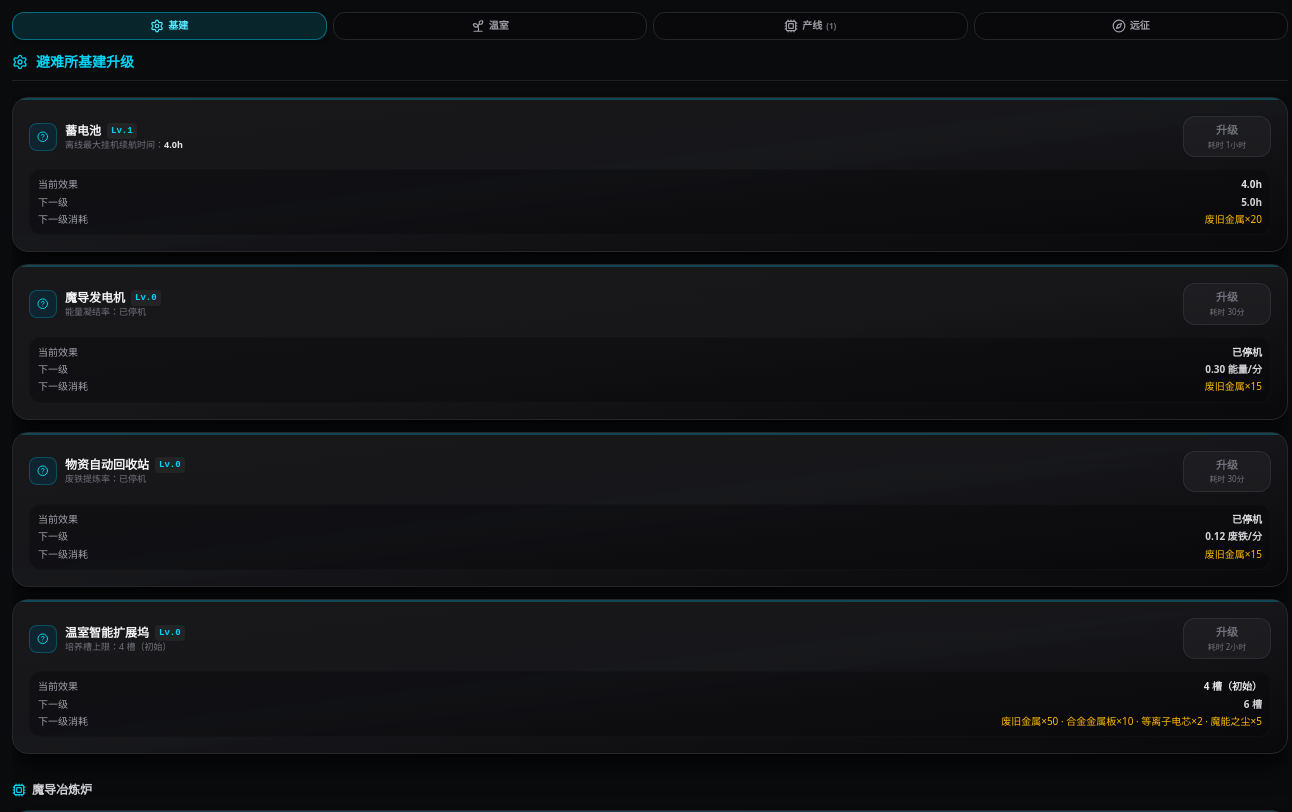
Scenario: FacilityCard 单任务状态摘要 UI（issue 06） › 渲染生产中任务状态摘要：配方名、已产/目标、进度条与剩余时间
Click the button "产线 (1)" at (810, 26), box x1=653 y1=12 x2=968 y2=40
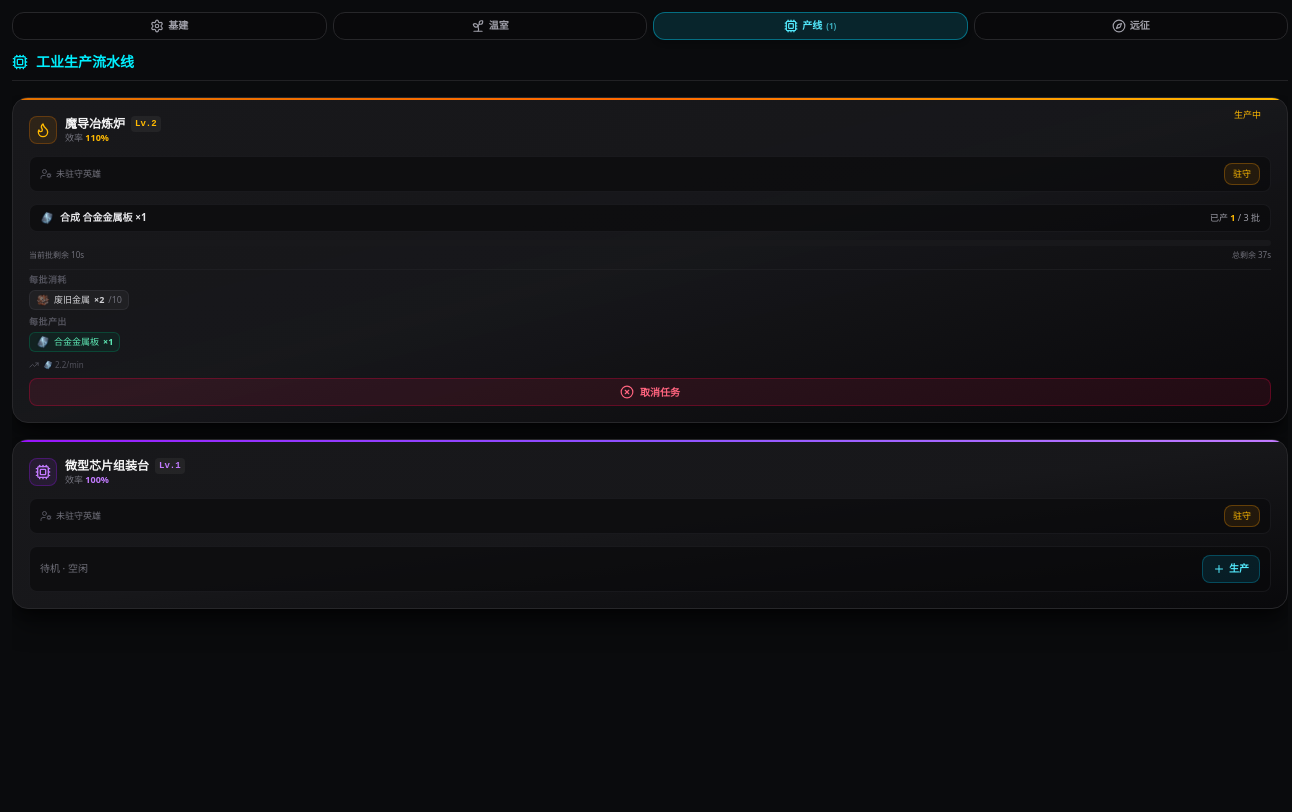
Now the text "合成 合金金属板 ×1" is shown, box x1=40 y1=211 x2=147 y2=225
Now the text "已产 1 / 3 批" is shown, box x1=1210 y1=212 x2=1260 y2=224
Now the text "当前批剩余 10s" is shown, box x1=29 y1=250 x2=84 y2=261
